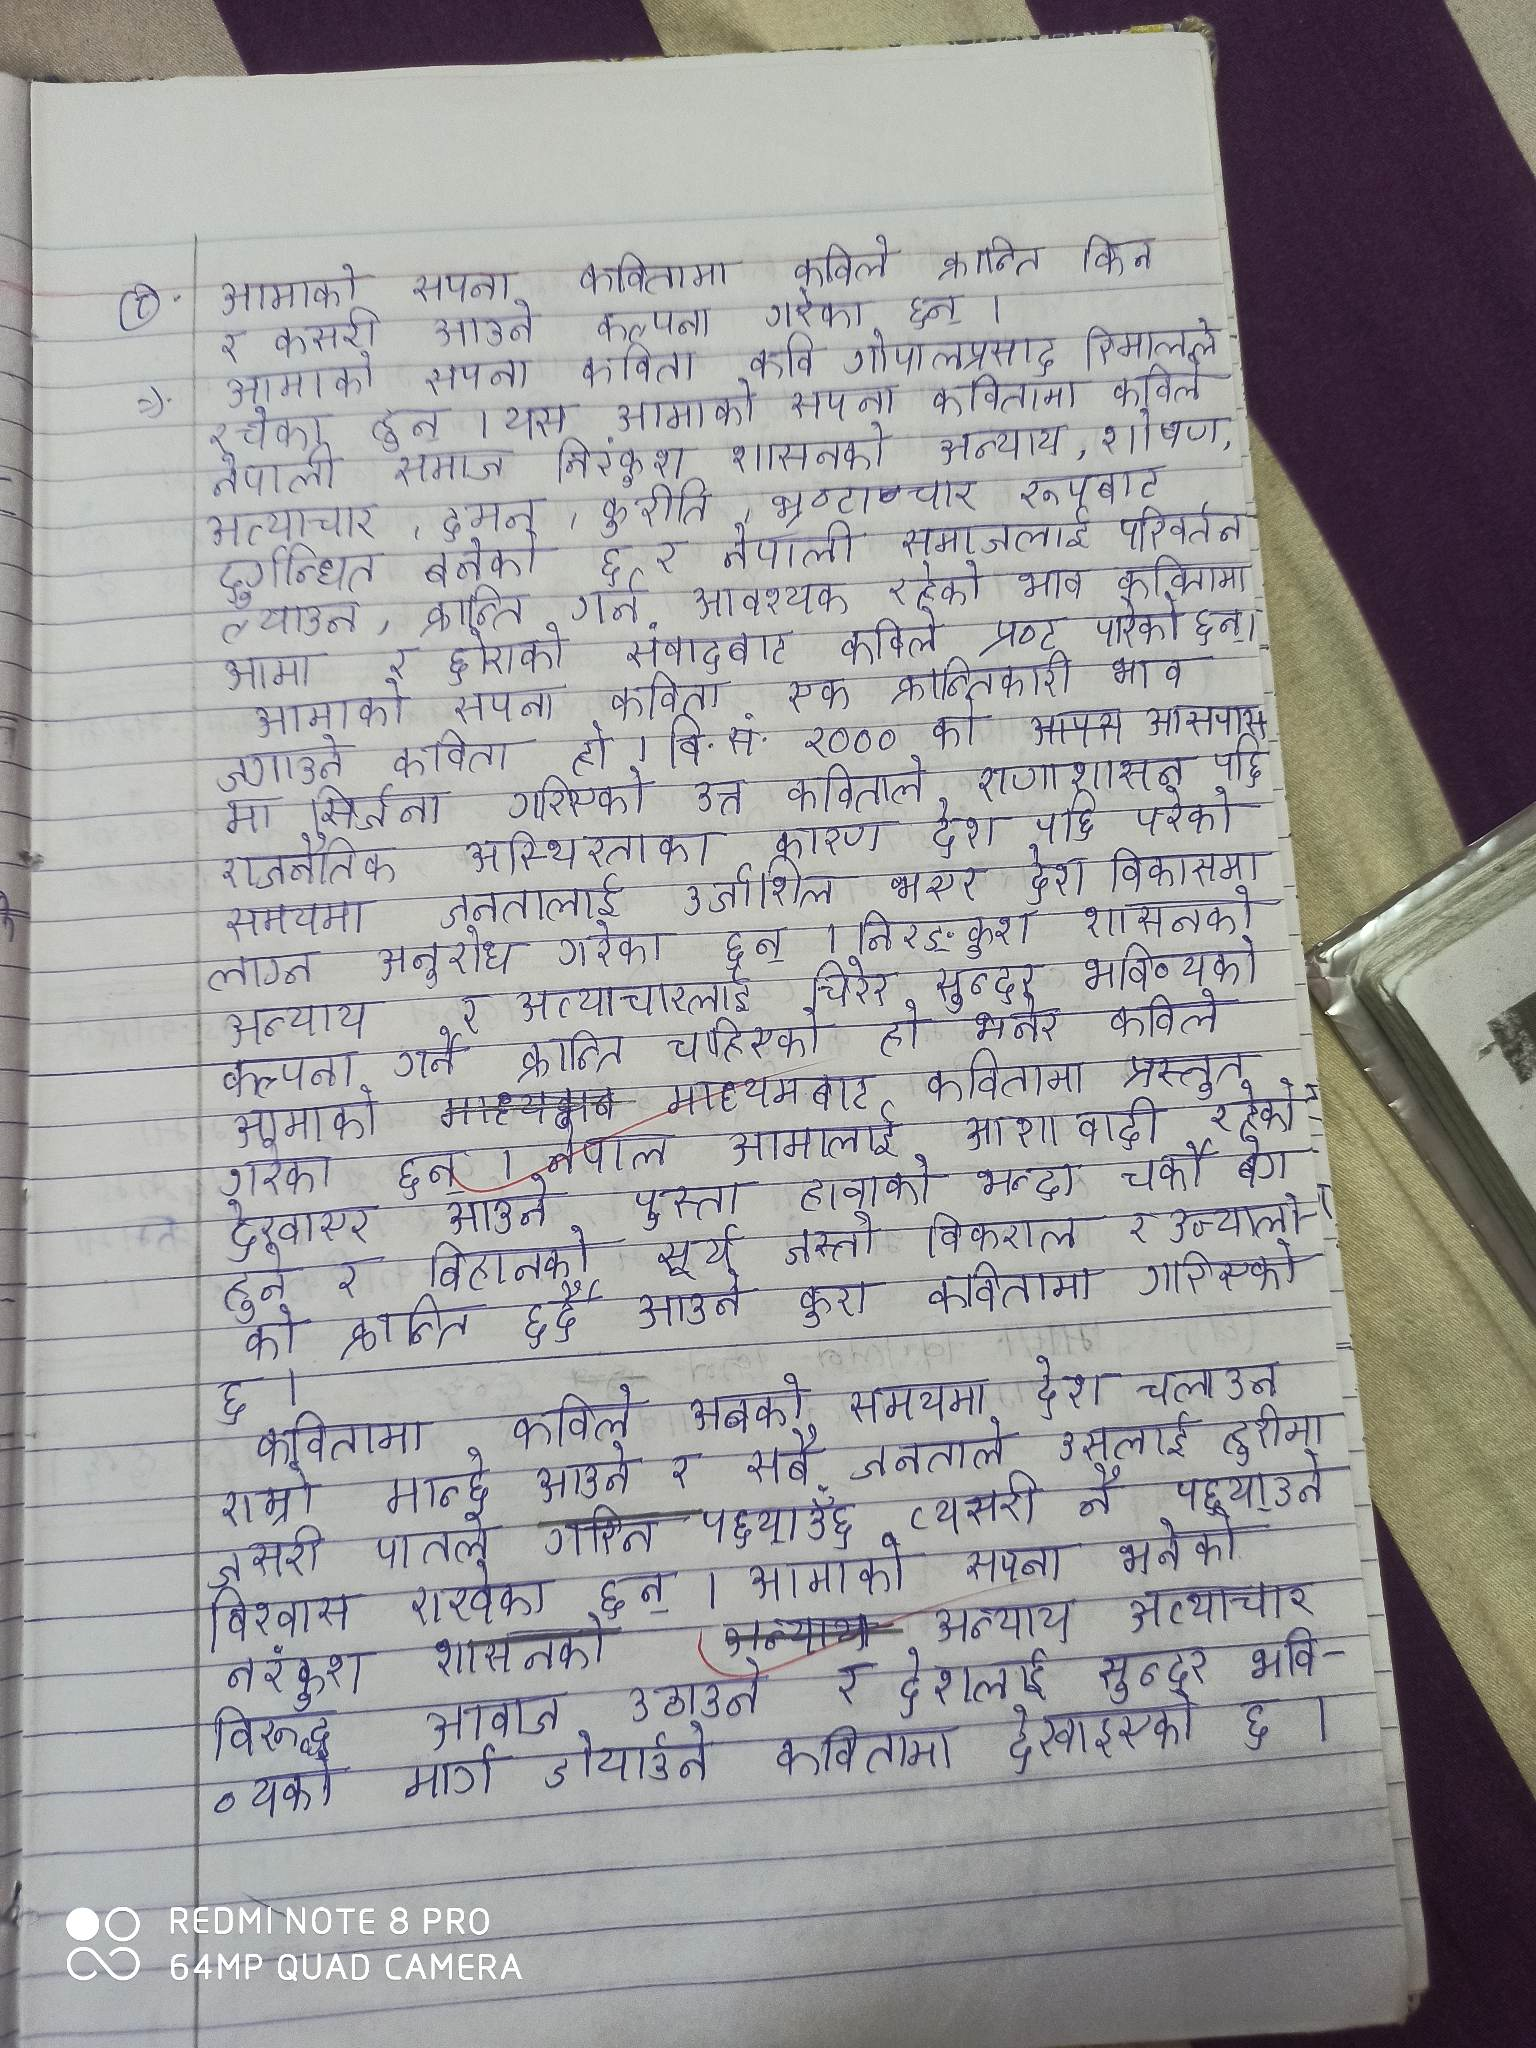text: (1005, 1688, 1196, 1775), (542, 1722, 712, 1793), (518, 968, 750, 1019), (963, 1093, 1163, 1153), (768, 1719, 963, 1777), (750, 1537, 912, 1605), (461, 827, 710, 871), (421, 1229, 602, 1288), (841, 329, 1063, 377), (218, 830, 403, 889), (1173, 1451, 1333, 1517), (895, 505, 1092, 558), (437, 872, 623, 929), (845, 1417, 1008, 1480), (766, 476, 981, 522), (729, 1106, 897, 1166), (1121, 1580, 1321, 1630), (895, 1643, 1047, 1708), (1081, 885, 1258, 940), (697, 1493, 858, 1553), (1078, 937, 1258, 990), (624, 1655, 766, 1722), (216, 543, 381, 601), (973, 753, 1192, 797), (255, 1409, 429, 1464), (1137, 1237, 1297, 1297), (223, 1643, 363, 1711), (926, 1047, 1089, 1105), (904, 1467, 1042, 1535), (408, 1563, 553, 1627), (660, 1071, 874, 1114), (371, 926, 523, 987), (926, 1259, 1096, 1314), (337, 1293, 478, 1359), (728, 419, 887, 477), (857, 905, 1036, 956), (431, 1625, 608, 1677), (203, 1582, 352, 1642), (1117, 1508, 1241, 1579), (616, 621, 792, 671), (219, 1193, 374, 1250), (219, 352, 378, 406), (681, 860, 836, 914), (227, 1090, 382, 1145), (510, 1380, 641, 1445), (381, 1445, 494, 1519), (1055, 1408, 1196, 1467), (799, 1153, 934, 1214), (786, 755, 925, 813), (252, 685, 403, 737), (889, 658, 1075, 700), (423, 1690, 560, 1746), (923, 1208, 1081, 1256), (665, 1016, 828, 1063), (215, 734, 353, 789), (211, 1763, 337, 1822), (1096, 1642, 1220, 1701), (1167, 1190, 1310, 1242), (542, 1118, 670, 1176), (555, 434, 686, 490), (218, 263, 360, 314), (305, 782, 444, 834), (686, 1374, 808, 1432), (221, 997, 368, 1045), (502, 771, 653, 818), (203, 502, 379, 542), (211, 448, 340, 503), (1115, 1045, 1244, 1100), (202, 1529, 323, 1587), (205, 1705, 332, 1759), (1083, 318, 1221, 368), (929, 373, 1083, 418), (442, 629, 565, 685), (1108, 843, 1262, 889), (1220, 1400, 1326, 1464), (721, 522, 866, 569), (219, 1051, 360, 1100), (578, 253, 733, 297), (1118, 500, 1244, 553), (529, 1442, 636, 1505), (542, 1505, 662, 1559), (1134, 1359, 1283, 1403), (219, 1463, 319, 1527), (687, 582, 854, 621), (1097, 405, 1221, 456), (933, 1600, 1075, 1645), (849, 1377, 989, 1422), (837, 605, 941, 666), (402, 1743, 505, 1804), (594, 485, 712, 539), (374, 1514, 495, 1566), (219, 1142, 332, 1197), (937, 419, 1063, 468), (608, 668, 726, 719), (555, 921, 668, 974), (442, 1184, 555, 1237), (1029, 1348, 1110, 1422), (516, 1029, 628, 1082), (1016, 464, 1163, 505), (1117, 552, 1247, 597), (1108, 989, 1226, 1039), (668, 710, 760, 772), (578, 343, 700, 390), (423, 579, 529, 632), (933, 958, 1036, 1013), (394, 731, 515, 777), (1207, 1080, 1304, 1138), (223, 901, 373, 939), (629, 1182, 741, 1232), (615, 395, 758, 434), (792, 232, 891, 289), (958, 1542, 1073, 1590), (215, 603, 363, 640), (970, 1156, 1079, 1206), (1136, 785, 1238, 837), (1144, 698, 1268, 740), (421, 539, 541, 582), (1096, 592, 1183, 651), (941, 232, 1042, 282), (1112, 353, 1204, 408), (223, 1250, 289, 1326), (1246, 1625, 1320, 1692), (886, 558, 984, 606), (434, 302, 536, 348), (636, 1285, 744, 1329), (1117, 1145, 1207, 1197), (652, 1222, 734, 1279), (392, 452, 511, 490), (597, 305, 712, 345), (807, 956, 891, 1011), (929, 792, 994, 863), (273, 311, 378, 355), (741, 1429, 816, 1488), (763, 289, 866, 332), (789, 381, 900, 421), (437, 495, 536, 540), (423, 353, 532, 393), (520, 1282, 582, 1351), (795, 1277, 874, 1332), (207, 951, 318, 990), (410, 266, 511, 308), (597, 1567, 674, 1622), (781, 1226, 874, 1271), (240, 405, 324, 455), (452, 685, 553, 726), (774, 822, 884, 860), (971, 1006, 1063, 1050), (392, 1148, 465, 1203), (221, 651, 319, 692), (883, 864, 981, 905), (1034, 789, 1100, 848), (368, 405, 445, 455), (749, 331, 818, 384), (392, 1027, 461, 1080), (1104, 648, 1191, 689), (244, 1303, 302, 1363), (800, 722, 900, 756), (1234, 1130, 1296, 1185), (978, 613, 1060, 653), (1025, 855, 1089, 905), (1079, 234, 1155, 276), (566, 585, 644, 626), (566, 716, 615, 777), (874, 1003, 928, 1058), (1229, 1690, 1275, 1755), (1016, 563, 1084, 605), (926, 700, 979, 753), (1212, 731, 1263, 785), (1073, 1463, 1121, 1521), (720, 927, 787, 968), (786, 677, 855, 713), (905, 289, 962, 332), (1192, 605, 1249, 648), (692, 776, 745, 819), (221, 795, 278, 835), (503, 403, 568, 437), (211, 1376, 252, 1422), (332, 1255, 369, 1300), (834, 1656, 866, 1708), (666, 1450, 699, 1492), (1125, 1206, 1155, 1250), (455, 989, 487, 1029), (595, 543, 623, 589), (652, 539, 682, 577), (387, 643, 415, 684), (215, 326, 244, 363), (205, 419, 234, 456), (129, 293, 152, 318)
